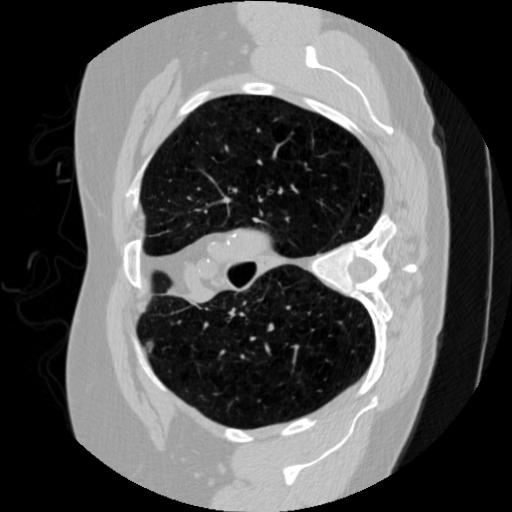nodule: (143, 340, 158, 355)
